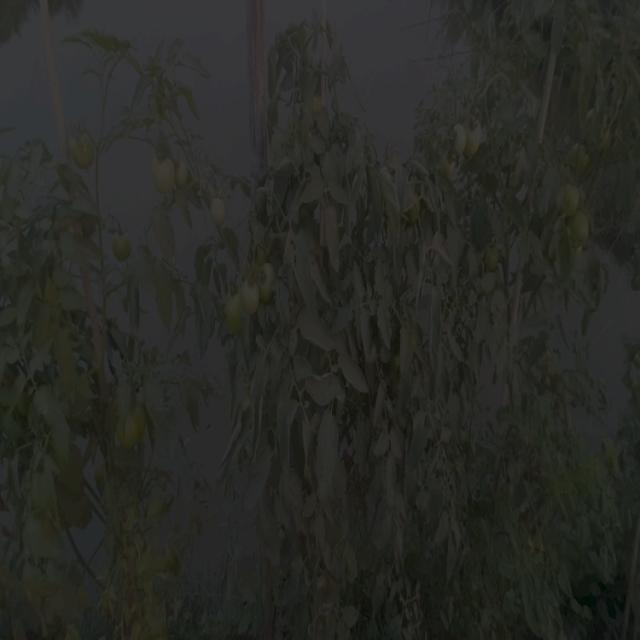tomato: (66, 128, 95, 168), (141, 480, 175, 511), (124, 403, 144, 444), (563, 143, 594, 169), (155, 162, 180, 192), (221, 292, 245, 321), (568, 217, 592, 246), (242, 287, 265, 315), (310, 85, 331, 112), (460, 121, 478, 148), (260, 266, 278, 291), (206, 198, 225, 221), (564, 186, 581, 210), (110, 237, 129, 258), (489, 246, 503, 264)
